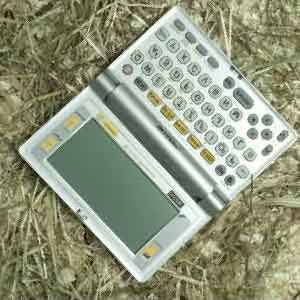handheld: (18, 7, 300, 284)
